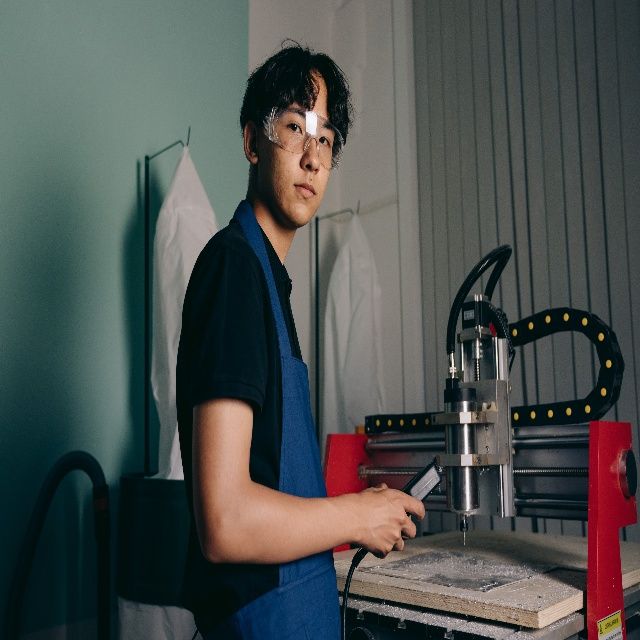Gafas: (259, 106, 344, 171)
Sin_guantes: (357, 482, 424, 560)
